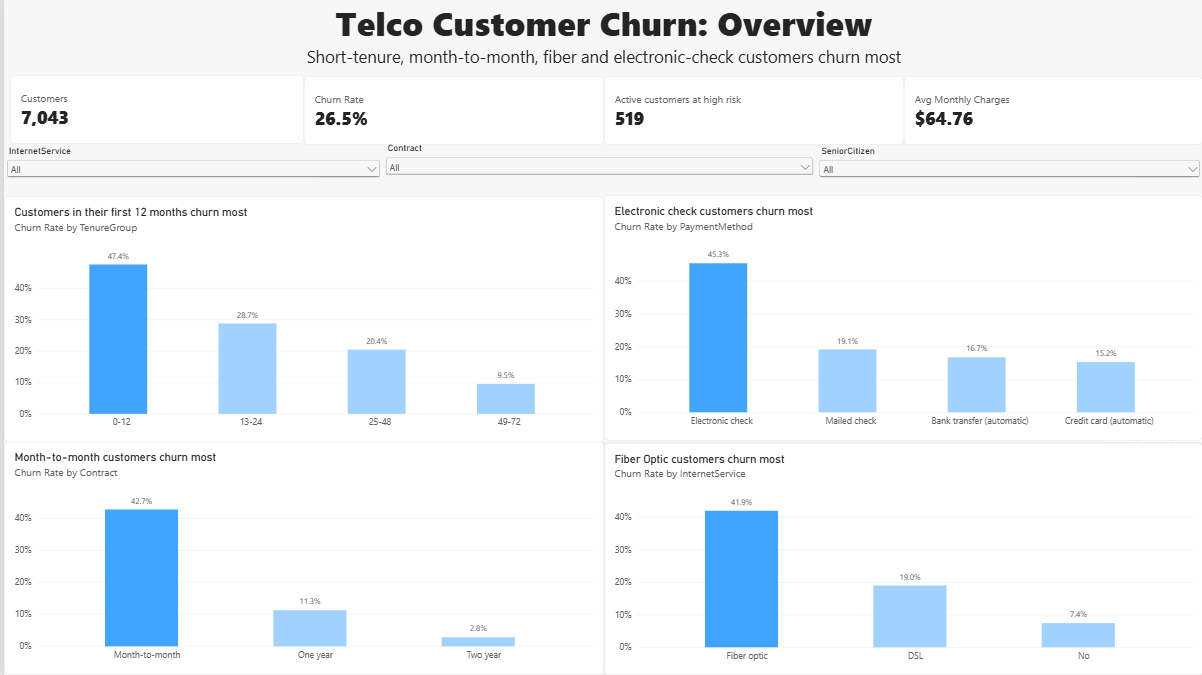

Layout of this report page (visuals, bound fields, positions):
{"tool":"powerbi","page":{"name":"Overview","canvas":[1920,1080],"ordinal":0},"visuals":[{"type":"cardVisual","fields":{"Data":["telco_dashboard_data.Customers"]},"box":[10,120,470,110],"z":0},{"type":"cardVisual","fields":{"Data":["telco_dashboard_data.Churn Rate"]},"box":[480,122.5,480,110],"z":1000},{"type":"cardVisual","fields":{"Data":["telco_dashboard_data.Active At-Risk"]},"box":[960,122.5,480,110],"z":2000},{"type":"cardVisual","fields":{"Data":["telco_dashboard_data.Avg Monthly Charges"]},"box":[1440,122.5,480,110],"z":3000},{"type":"clusteredColumnChart","title":"Month-to-month customers churn most","fields":{"Category":["telco_dashboard_data.Contract"],"Y":["telco_dashboard_data.Churn Rate"]},"box":[0,706.7,960,373.3],"z":4000},{"type":"clusteredColumnChart","title":"Customers in their first 12 months churn most","fields":{"Category":["telco_dashboard_data.TenureGroup"],"Y":["telco_dashboard_data.Churn Rate"]},"box":[0,313.3,960,393.3],"z":5000},{"type":"clusteredColumnChart","title":"Fiber Optic customers churn most","fields":{"Category":["telco_dashboard_data.InternetService"],"Y":["telco_dashboard_data.Churn Rate"]},"box":[960,707.1,960,372.9],"z":6000},{"type":"clusteredColumnChart","title":"Electronic check customers churn most","fields":{"Category":["telco_dashboard_data.PaymentMethod"],"Y":["telco_dashboard_data.Churn Rate"]},"box":[960,312.9,960,392.9],"z":7000},{"type":"slicer","fields":{"Values":["telco_dashboard_data.Contract"]},"box":[606.2,227.5,693.8,82.5],"z":8000},{"type":"slicer","fields":{"Values":["telco_dashboard_data.InternetService"]},"box":[0,232.5,606.2,82.5],"z":9000},{"type":"slicer","fields":{"Values":["telco_dashboard_data.SeniorCitizen"]},"box":[1300,232.5,620,82.5],"z":10000},{"type":"textbox","box":[0,0,1920,120],"z":11000}]}

Visuals, with their boxes in screenshot pixels (x1, y1, x2, y2), scaled from the page's 1920x1080 canvas onto the 1202x675 screenshot:
cardVisual - telco_dashboard_data.Customers: region(6, 75, 300, 144)
cardVisual - telco_dashboard_data.Churn Rate: region(300, 77, 601, 145)
cardVisual - telco_dashboard_data.Active At-Risk: region(601, 77, 902, 145)
cardVisual - telco_dashboard_data.Avg Monthly Charges: region(902, 77, 1201, 145)
"Month-to-month customers churn most" clusteredColumnChart: region(0, 442, 601, 674)
"Customers in their first 12 months churn most" clusteredColumnChart: region(0, 196, 601, 442)
"Fiber Optic customers churn most" clusteredColumnChart: region(601, 442, 1201, 674)
"Electronic check customers churn most" clusteredColumnChart: region(601, 196, 1201, 441)
slicer - telco_dashboard_data.Contract: region(380, 142, 814, 194)
slicer - telco_dashboard_data.InternetService: region(0, 145, 380, 197)
slicer - telco_dashboard_data.SeniorCitizen: region(814, 145, 1201, 197)
textbox: region(0, 0, 1201, 75)
